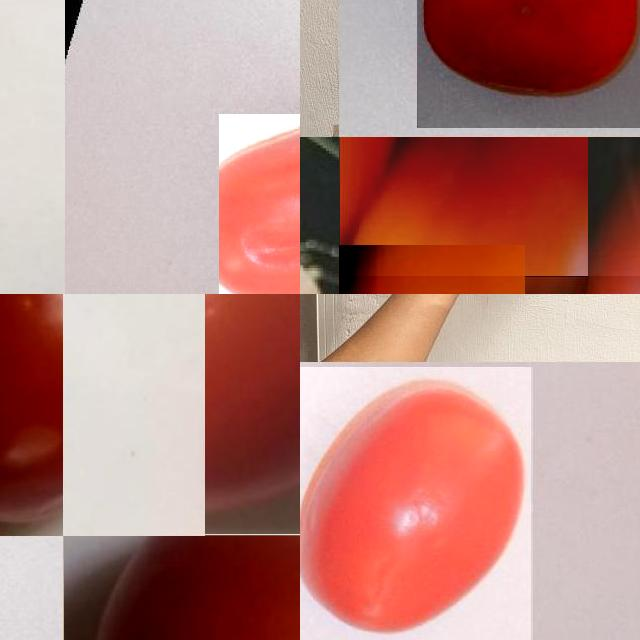Fresh Tomato: (300, 367, 533, 640), (340, 137, 640, 276), (417, 0, 640, 128), (63, 536, 300, 640), (205, 294, 300, 536), (0, 294, 63, 536)
Rotten Tomato: (219, 114, 300, 294)
